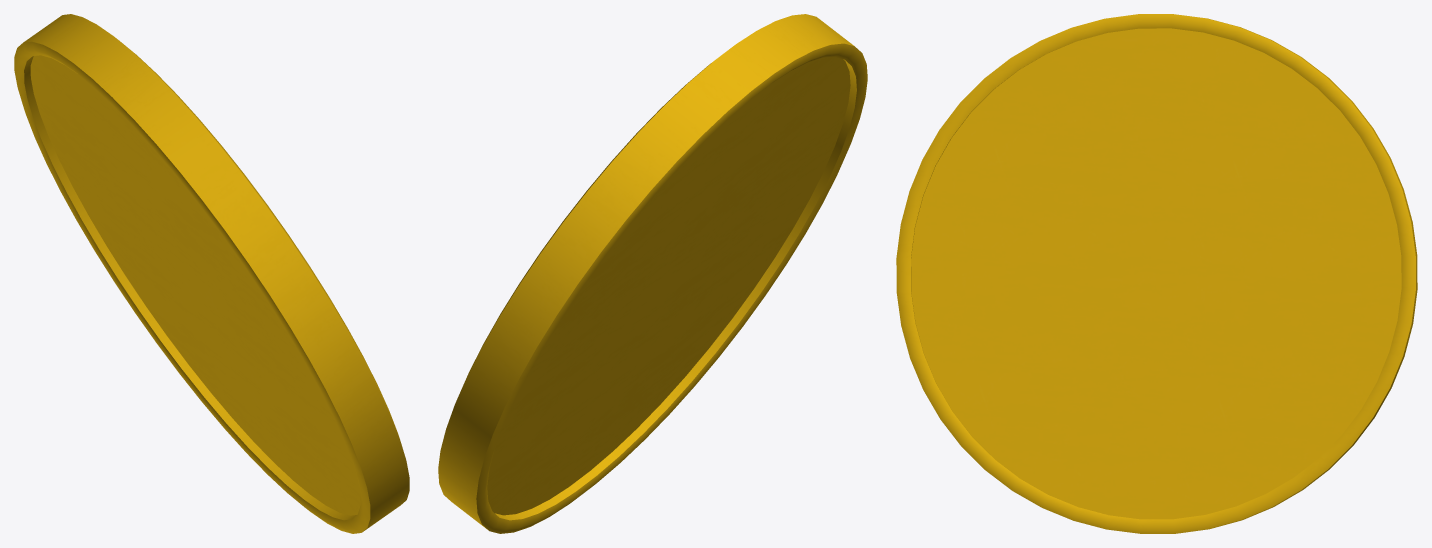
The model's file is coincoin.glb.
The picture shows the model from 3 angles, left to right: view 1: azimuth 30°, elevation 25°; view 2: azimuth 150°, elevation 25°; view 3: azimuth 270°, elevation 25°; orthographic projection. The views are drawn at different scales.
Visible parts, largest first — view 1: GoldCoinBlank; view 2: GoldCoinBlank; view 3: GoldCoinBlank.
Boxes of the visible parts, x1,y1,x2,y2 form: GoldCoinBlank: (14, 14, 409, 533); GoldCoinBlank: (438, 14, 867, 533); GoldCoinBlank: (896, 14, 1417, 533).
Bounding box in the file's own units: 0.0181 × 0.0338 × 0.036.
Materials: 1 (1 with a texture image).
